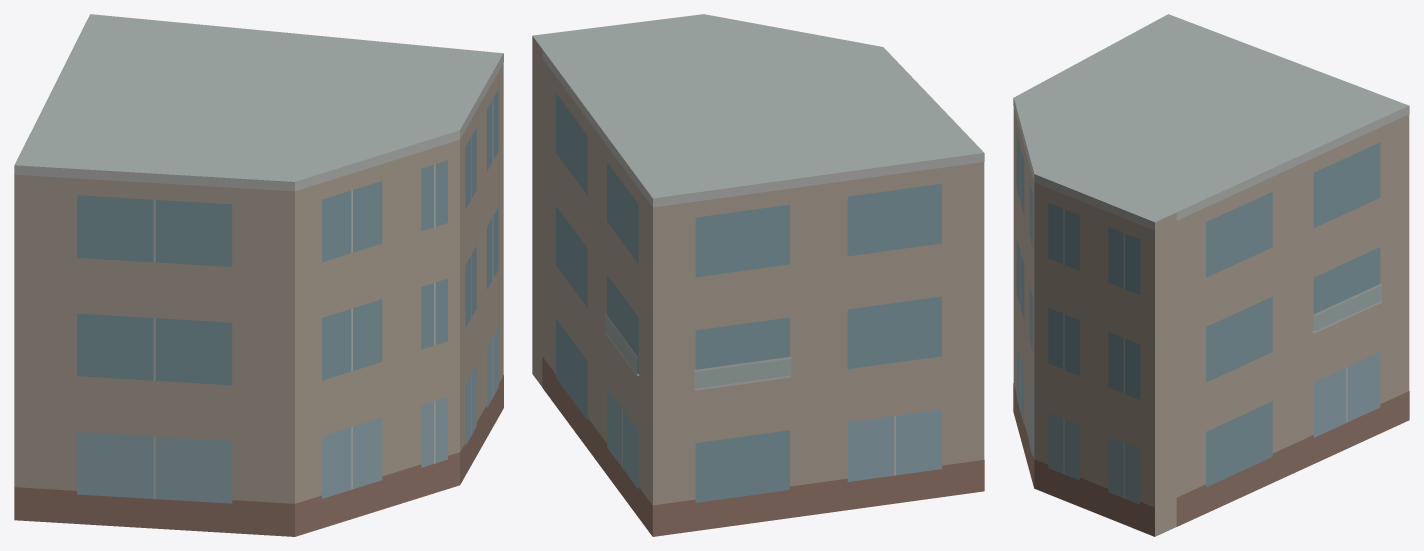
File: survey-upis-32470252.glb
3 views of the same model, side by side, from view 1: azimuth 30°, elevation 25°; view 2: azimuth 150°, elevation 25°; view 3: azimuth 270°, elevation 25° (orthographic). The views are drawn at different scales.
Visible parts, largest first — view 1: survey-upis-32470252.tmp; view 2: survey-upis-32470252.tmp; view 3: survey-upis-32470252.tmp.
Part boxes in pixels (box(x1,y1,x2,y2)): survey-upis-32470252.tmp: box(14, 14, 503, 536); survey-upis-32470252.tmp: box(532, 14, 984, 536); survey-upis-32470252.tmp: box(1013, 14, 1409, 536).
Size of the model in its own units: 13.01 by 9.15 by 10.44.
